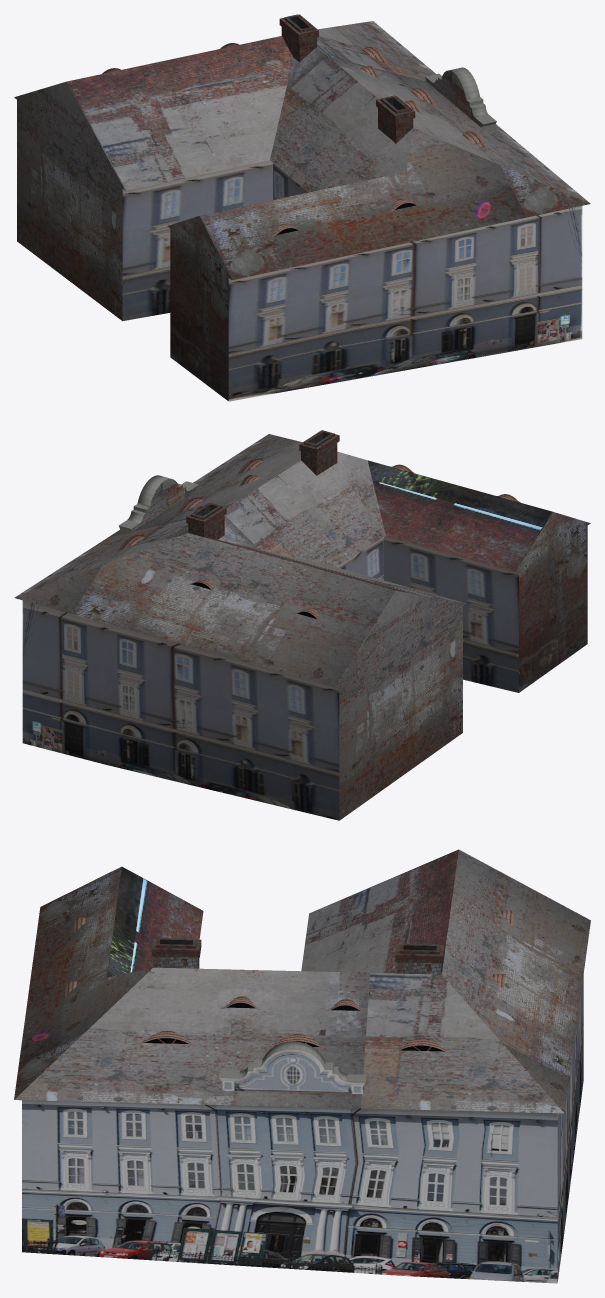
The model's file is darc.glb.
3 renders of one model, top to bottom at view 1: azimuth 30°, elevation 25°; view 2: azimuth 150°, elevation 25°; view 3: azimuth 270°, elevation 25°, orthographic. The views are drawn at different scales.
Parts seen in each view (by area): view 1: _G-Object (Loose Mesh), G-Object.006, G-Object.007; view 2: _G-Object (Loose Mesh), G-Object.006, G-Object.007; view 3: _G-Object (Loose Mesh), G-Object.006, G-Object.007.
Part boxes in pixels (x1=…): _G-Object (Loose Mesh): x1=14, y1=21, x2=590, y2=401; G-Object.006: x1=376, y1=95, x2=415, y2=143; G-Object.007: x1=279, y1=14, x2=318, y2=62; _G-Object (Loose Mesh): x1=14, y1=434, x2=590, y2=820; G-Object.006: x1=299, y1=430, x2=339, y2=475; G-Object.007: x1=186, y1=502, x2=226, y2=539; _G-Object (Loose Mesh): x1=14, y1=849, x2=590, y2=1283; G-Object.006: x1=151, y1=938, x2=201, y2=968; G-Object.007: x1=395, y1=943, x2=444, y2=974.
Bounding box in the file's own units: 32.66 × 19.38 × 38.58.
Materials: 10 (8 with a texture image).
